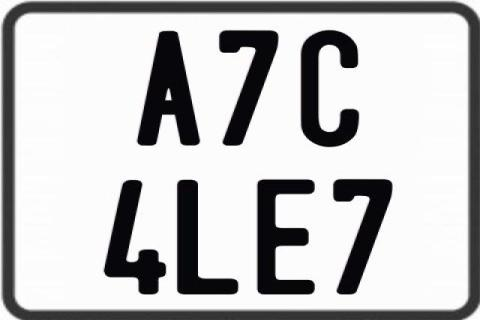0: (216, 30, 281, 148), (333, 177, 394, 295), (101, 177, 163, 293)
A: (135, 30, 199, 148)
C: (299, 30, 363, 148)
E: (257, 180, 319, 300)
L: (176, 180, 240, 298)
